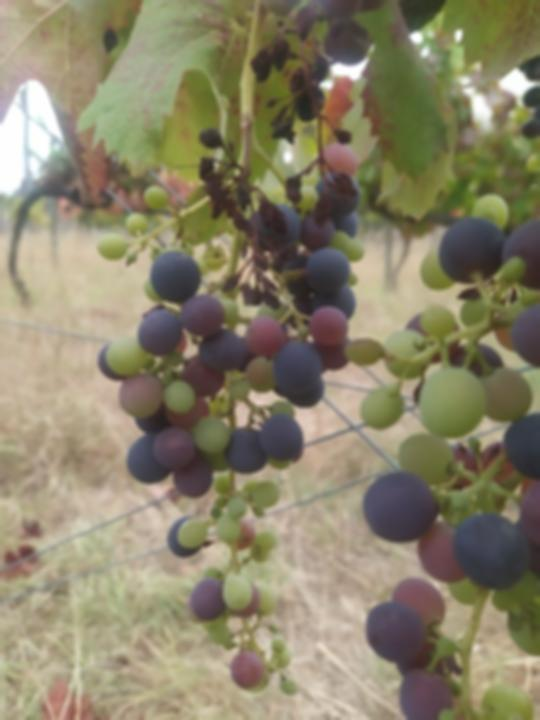grape: (96, 130, 367, 697), (248, 2, 382, 229)
